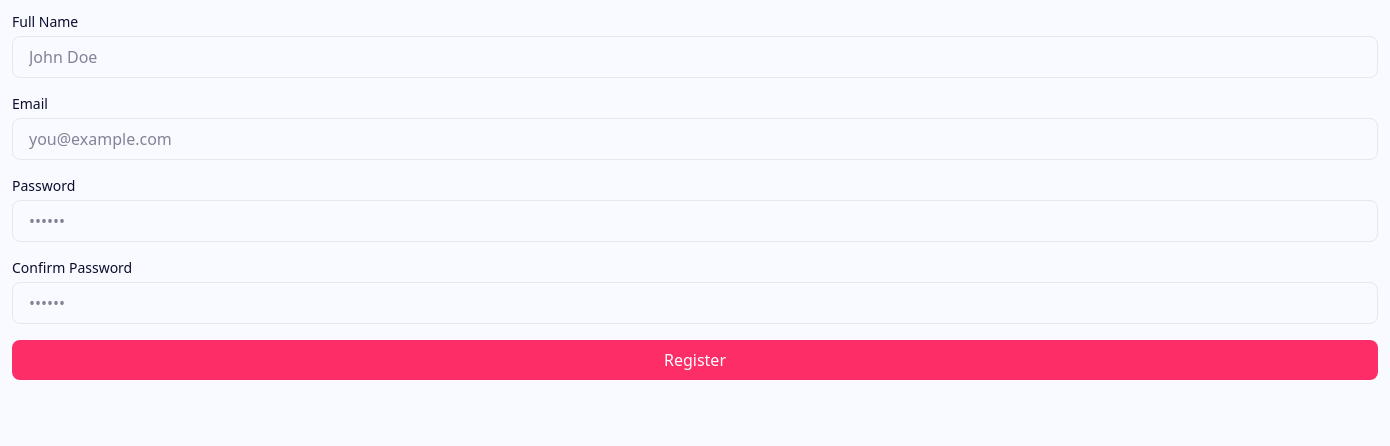
Test case: RegisterForm › Form Validation - Email › should clear email error when user starts typing
Type "Jane Doe" into the field with placeholder "John Doe". click: (695, 57)
box: [12, 36, 1378, 78]
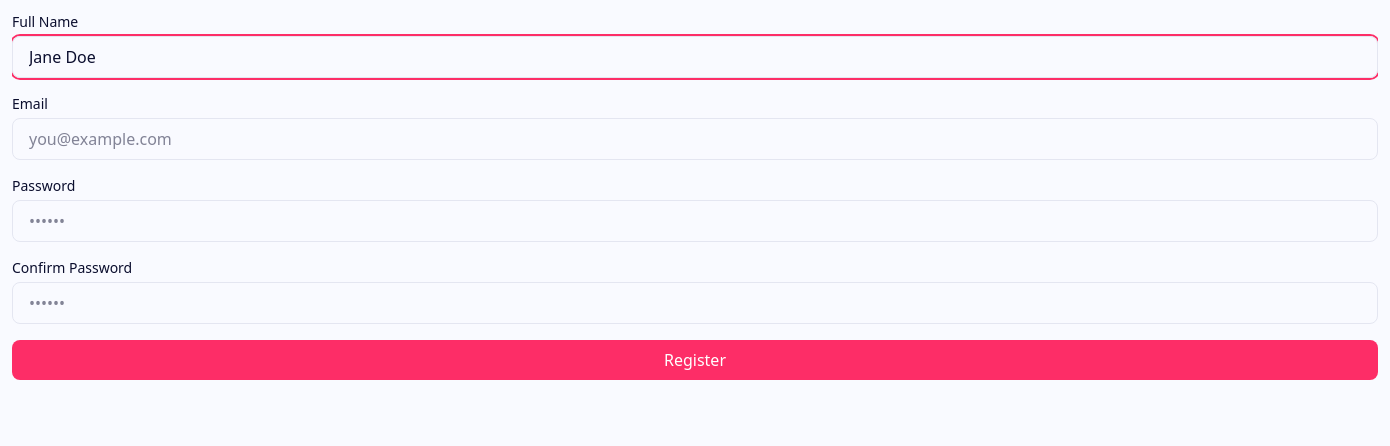
Click the button "Register". click: (695, 360)
box: [12, 340, 1378, 380]
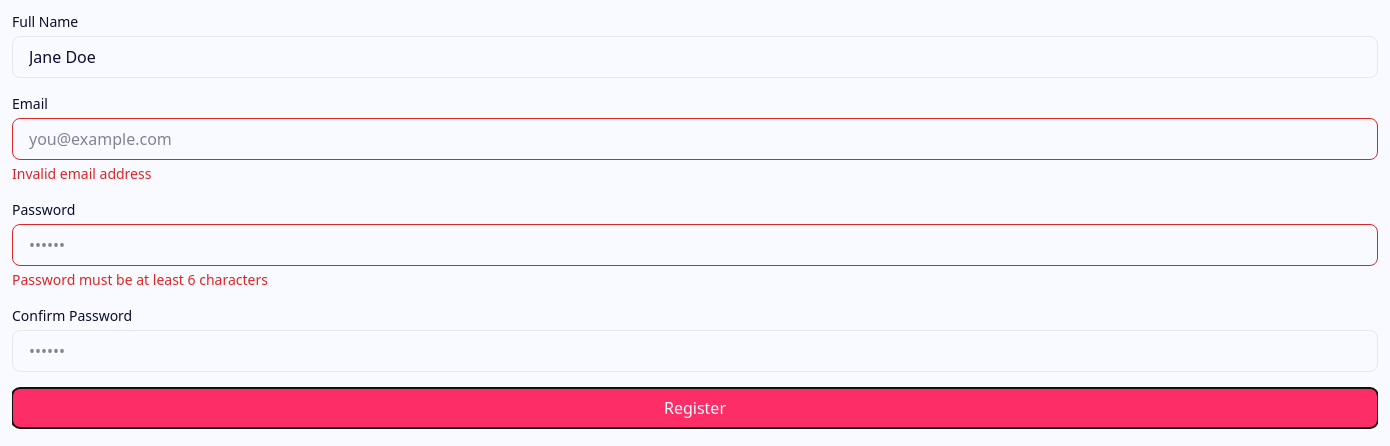
Result: the text "Invalid email address" is shown at [12, 164, 151, 183]
Type "jane@example.com" into the field with placeholder "you@example.com". click: (695, 139)
box: [12, 118, 1378, 160]
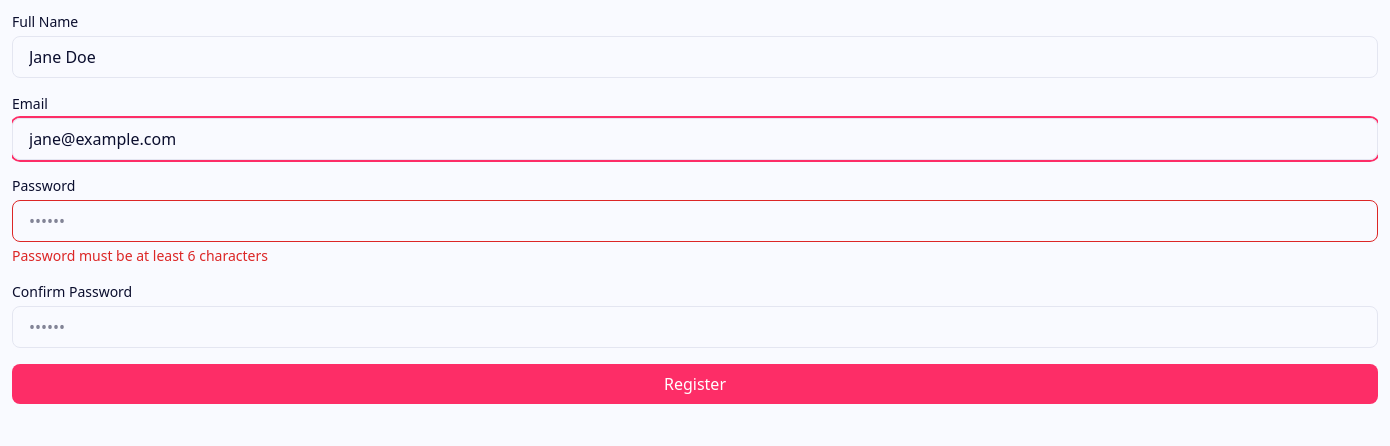
Result: the text "Invalid email" is gone
